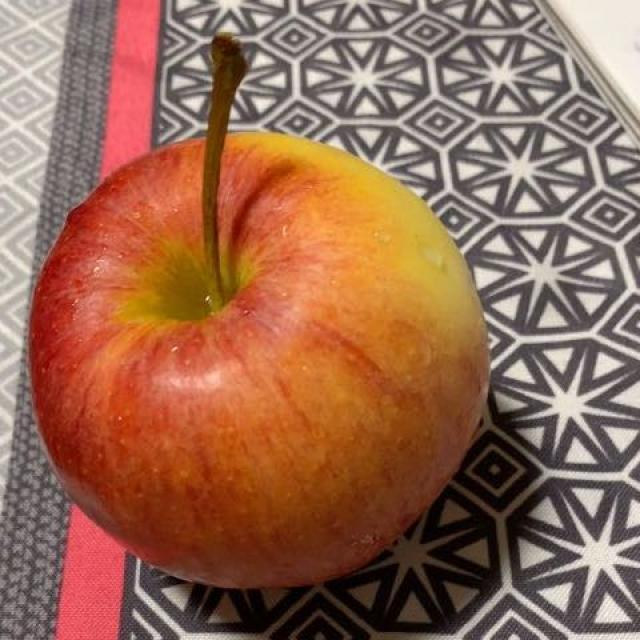Apple: (20, 23, 500, 597)
